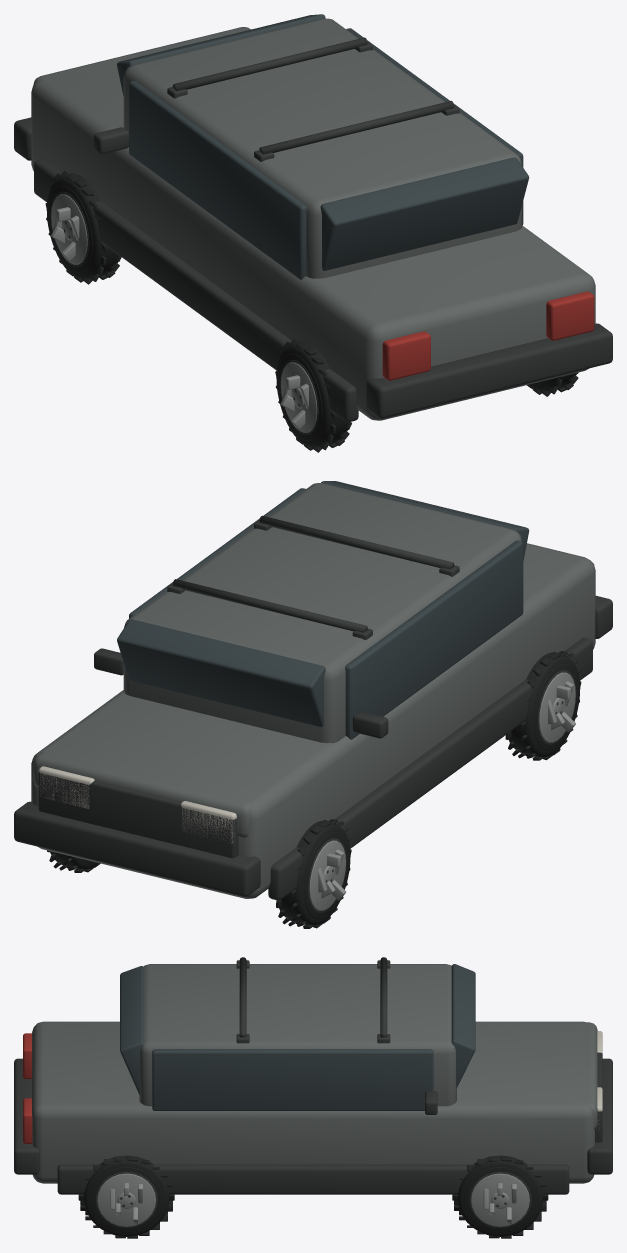
Rendered from car_drivable_v1.glb.
3 views of the same model, one above another, from view 1: azimuth 30°, elevation 25°; view 2: azimuth 150°, elevation 25°; view 3: azimuth 270°, elevation 25° (orthographic). The views are drawn at different scales.
Parts seen in each view (by area): view 1: Car_Shell, Car_Wheel_LR, Car_Wheel_LF, Car_Wheel_RR; view 2: Car_Shell, Car_Wheel_LR, Car_Wheel_LF, Car_Wheel_RF; view 3: Car_Shell, Car_Wheel_RF, Car_Wheel_RR.
Part boxes in pixels (x1,y1,x2,y2): Car_Shell: (14,14,612,421); Car_Wheel_LR: (275,339,351,452); Car_Wheel_LF: (45,171,121,284); Car_Wheel_RR: (527,372,578,396); Car_Shell: (14,481,612,900); Car_Wheel_LR: (505,651,581,760); Car_Wheel_LF: (276,819,351,928); Car_Wheel_RF: (47,850,100,872); Car_Shell: (14,957,612,1194); Car_Wheel_RF: (452,1155,548,1238); Car_Wheel_RR: (78,1155,174,1238).
Bounding box in the file's own units: 2.12 × 1.67 × 4.68.
